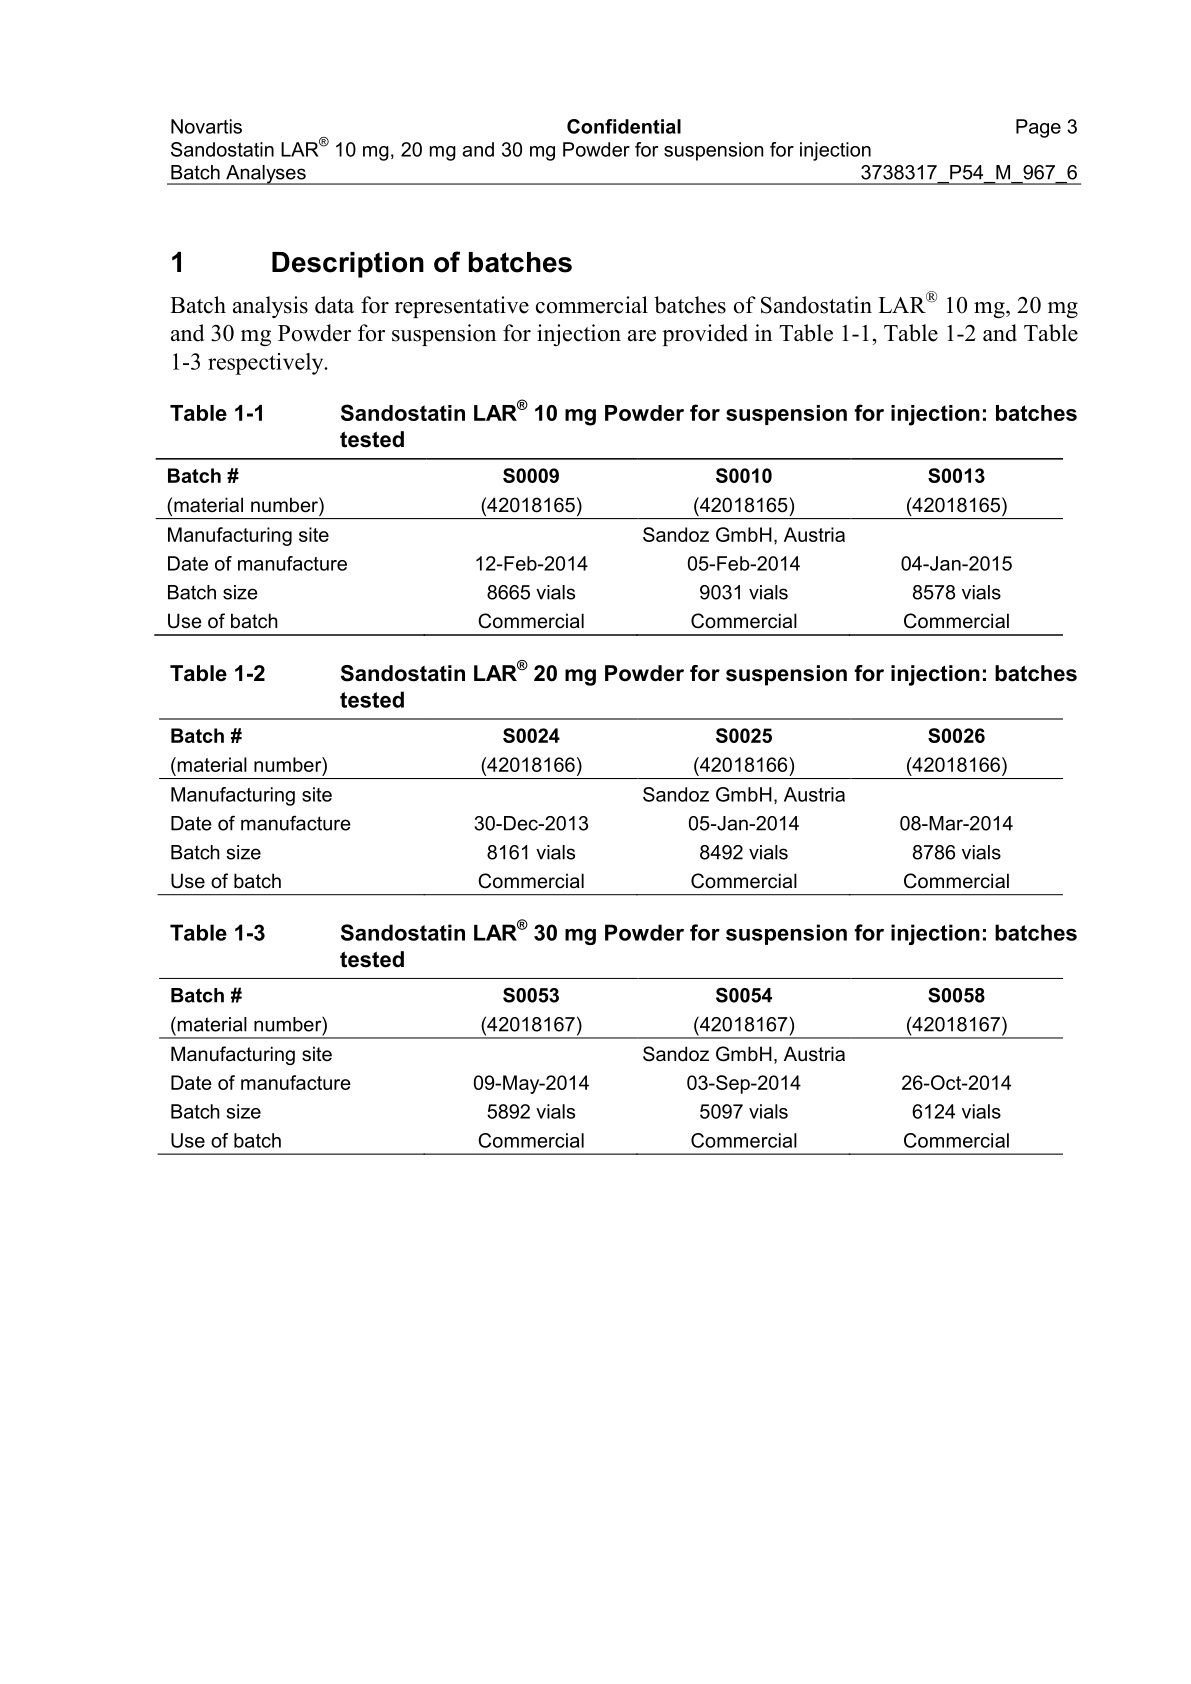partial_lined: (159, 716, 1067, 897), (153, 457, 1063, 636), (157, 977, 1063, 1154)
